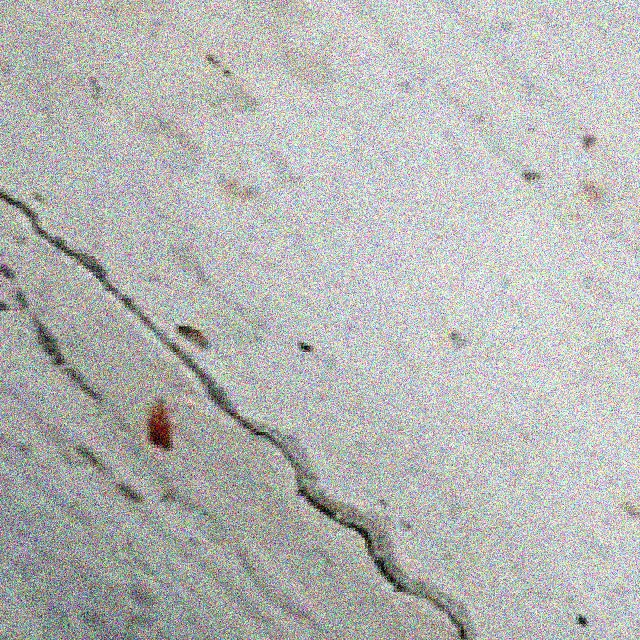SurfaceCrack: (4, 154, 484, 640)
